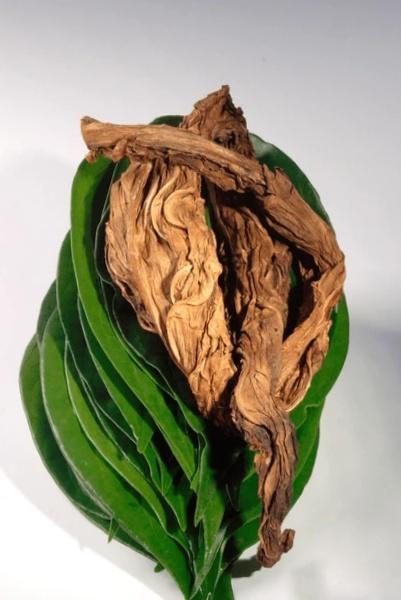bulathwita: (13, 86, 351, 600)
